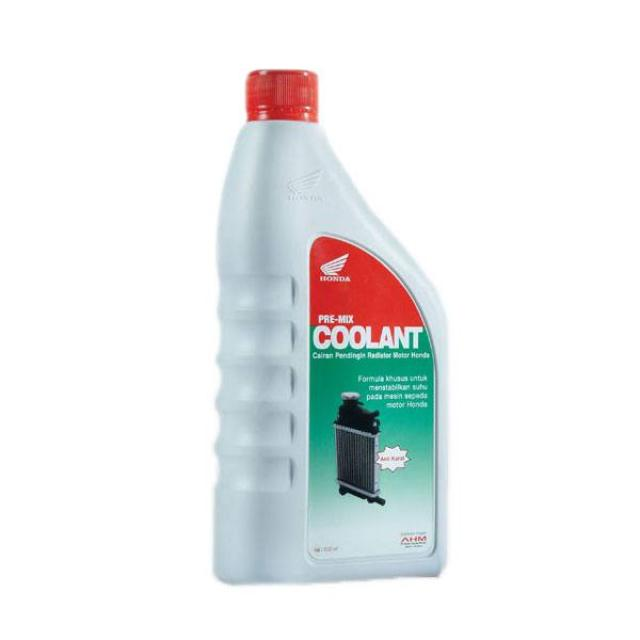coolant: (204, 44, 461, 590)
